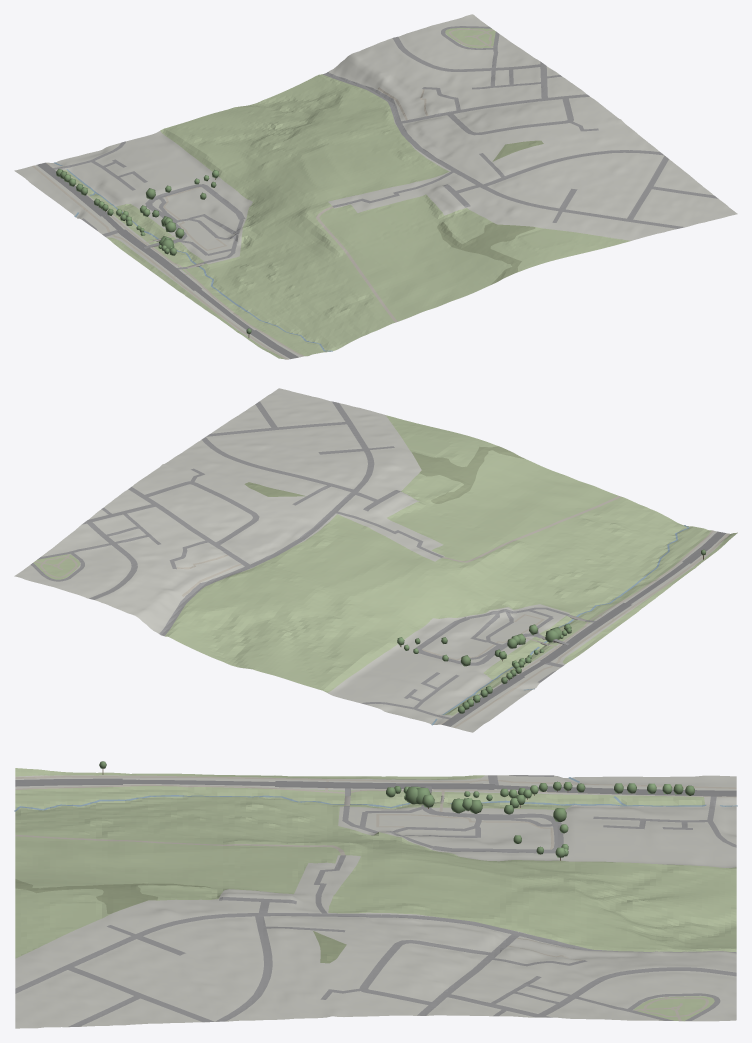
3 views of the same model, one above another, from view 1: azimuth 30°, elevation 25°; view 2: azimuth 150°, elevation 25°; view 3: azimuth 270°, elevation 25° (orthographic). The views are drawn at different scales.
Parts seen in each view (by area): view 1: way/942797263@t07_01, t07_01_terrain, t07_01_roads_minor, t07_01_roads_path, t07_01_roads_major, t07_01_trees_mapped, way/1225396154@t07_01, way/224636423@t07_01, way/479540578@t07_01; view 2: way/942797263@t07_01, t07_01_terrain, t07_01_roads_minor, t07_01_roads_path, t07_01_roads_major, way/1225396154@t07_01, t07_01_trees_mapped, way/224636423@t07_01, way/479540578@t07_01; view 3: t07_01_terrain, way/942797263@t07_01, t07_01_roads_minor, t07_01_roads_path, t07_01_roads_major, t07_01_trees_mapped, way/224636423@t07_01, way/1225396154@t07_01, t07_01_waterways, way/479540578@t07_01, way/651748540@t07_01.
Boxes of the visible parts, x1,y1,x2,y2 form: way/942797263@t07_01: [63, 74, 630, 356]; t07_01_terrain: [14, 14, 737, 359]; t07_01_roads_minor: [53, 26, 718, 269]; t07_01_roads_path: [32, 28, 493, 359]; t07_01_roads_major: [37, 162, 298, 358]; t07_01_trees_mapped: [56, 168, 251, 337]; way/1225396154@t07_01: [437, 222, 535, 266]; way/224636423@t07_01: [107, 237, 285, 359]; way/479540578@t07_01: [445, 28, 495, 48]; way/942797263@t07_01: [165, 415, 711, 715]; t07_01_terrain: [14, 388, 734, 732]; t07_01_roads_minor: [30, 401, 595, 719]; t07_01_roads_path: [34, 495, 729, 727]; t07_01_roads_major: [442, 531, 726, 726]; way/1225396154@t07_01: [412, 446, 491, 503]; t07_01_trees_mapped: [397, 549, 705, 713]; way/224636423@t07_01: [562, 532, 737, 664]; way/479540578@t07_01: [33, 554, 80, 579]; t07_01_terrain: [15, 775, 736, 1028]; way/942797263@t07_01: [15, 786, 736, 958]; t07_01_roads_minor: [15, 775, 736, 1026]; t07_01_roads_path: [15, 775, 736, 1020]; t07_01_roads_major: [15, 778, 736, 796]; t07_01_trees_mapped: [99, 761, 694, 860]; way/224636423@t07_01: [15, 768, 484, 779]; way/1225396154@t07_01: [27, 883, 210, 913]; t07_01_waterways: [14, 777, 737, 811]; way/479540578@t07_01: [634, 996, 714, 1021]; way/651748540@t07_01: [313, 931, 346, 963].
Size of the model in its own units: 501 by 54.98 by 502.
